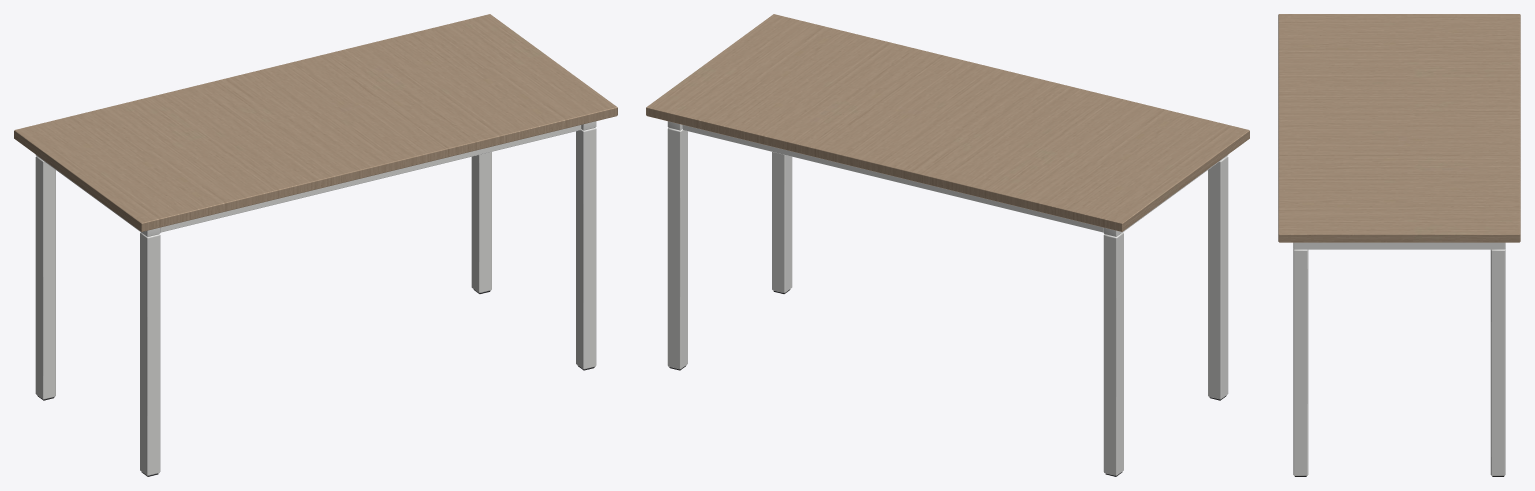
The model's file is desk.glb.
3 views of the same model, side by side, from view 1: azimuth 30°, elevation 25°; view 2: azimuth 150°, elevation 25°; view 3: azimuth 270°, elevation 25° (orthographic). The views are drawn at different scales.
Visible parts, largest first — view 1: desk_v1; view 2: desk_v1; view 3: desk_v1.
Boxes of the visible parts, bbox=[...] form: desk_v1: bbox=[14, 14, 617, 476]; desk_v1: bbox=[646, 14, 1249, 476]; desk_v1: bbox=[1278, 14, 1520, 476].
Size of the model in its own units: 1.4 by 0.7401 by 0.65.
3 materials, 1 textured.
